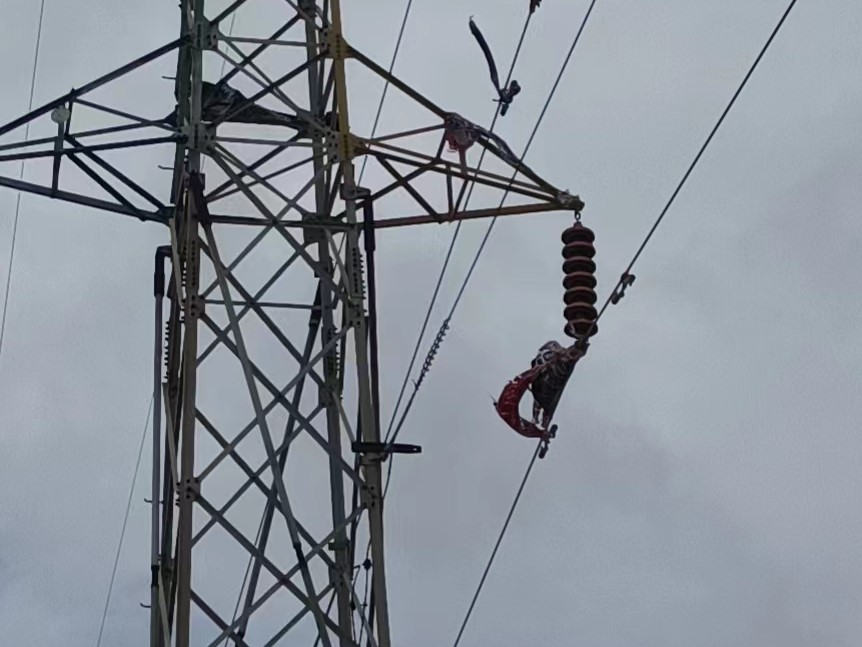异物: (444, 111, 580, 208), (489, 321, 590, 438), (159, 74, 339, 137), (468, 15, 521, 116), (529, 0, 544, 12)
